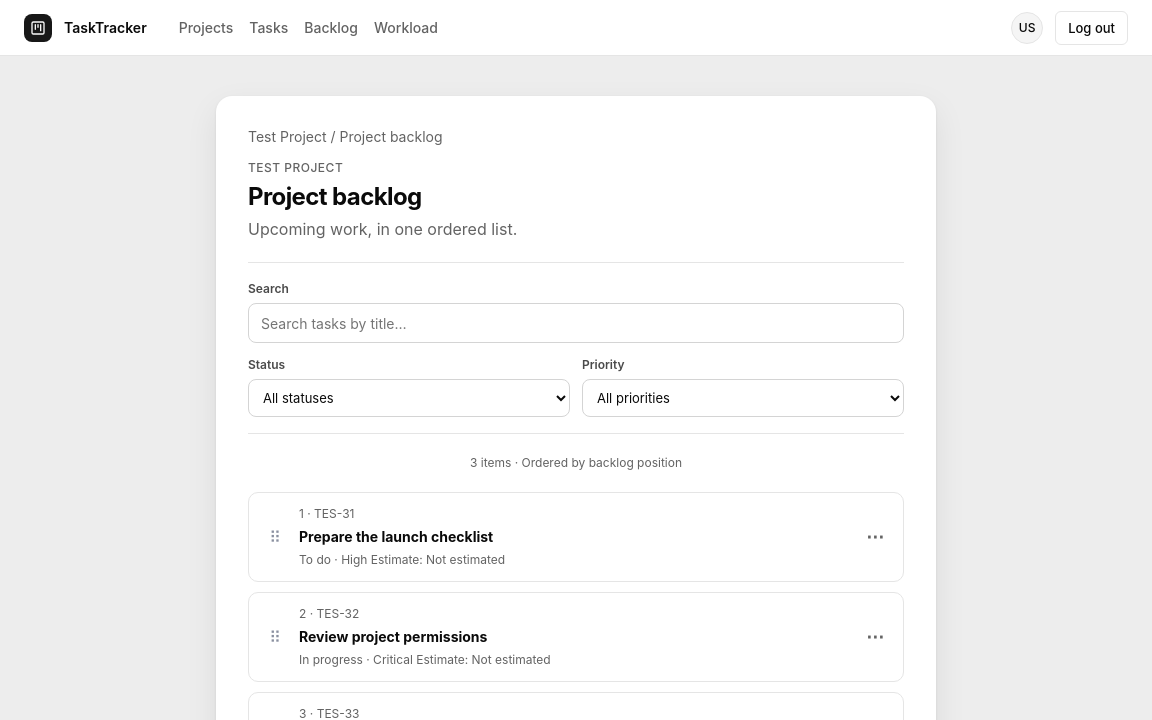
[US-24] Prioritize and Reorder Backlog Items (T1WOR-163) › opens accessible item actions modal and handles move down (State 02)
expect the heading "Project backlog" is shown: met, box [248, 181, 422, 213]
// Click item actions on task-1
Click the button with test id "backlog-item-actions-btn-task-1". click: (875, 537)
box: [861, 523, 889, 551]
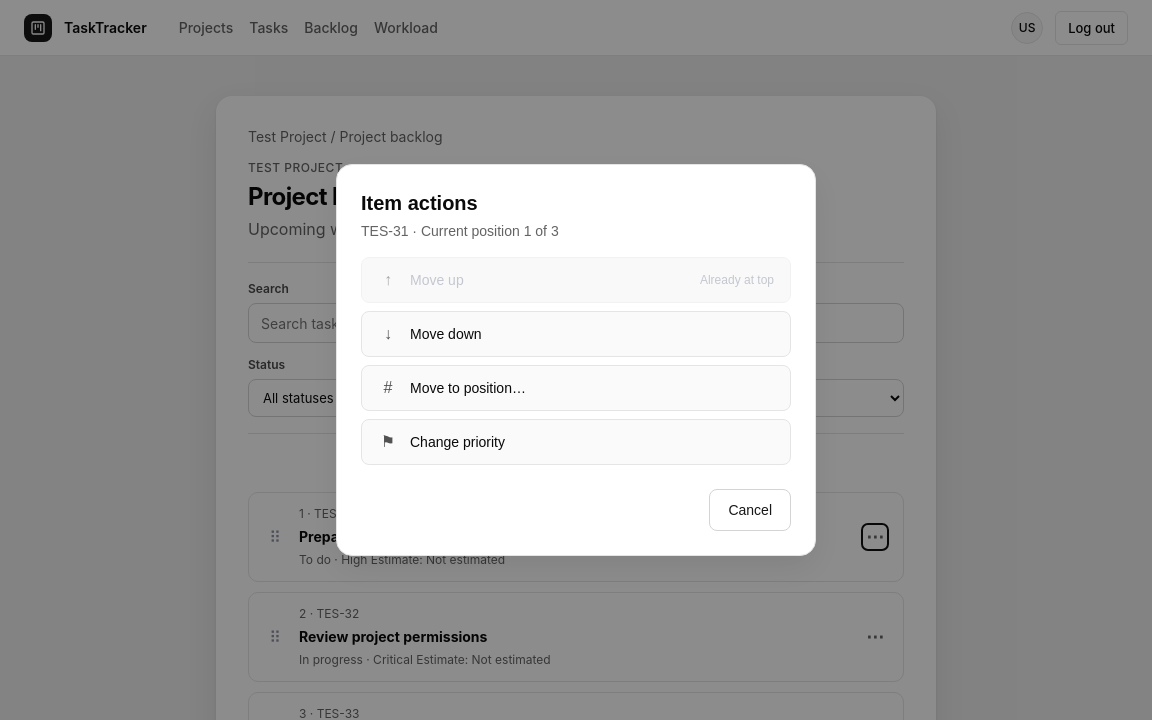
expect the element with test id "backlog-item-actions-modal" is shown: met
expect the heading "Item actions" is shown: met, box [361, 192, 478, 214]
expect the text "TES-31 · Current position 1 of 3" is shown: met, box [361, 223, 559, 239]
// Click Move down
Click the button with test id "backlog-action-move-down". click: (446, 334)
box: [361, 311, 791, 357]
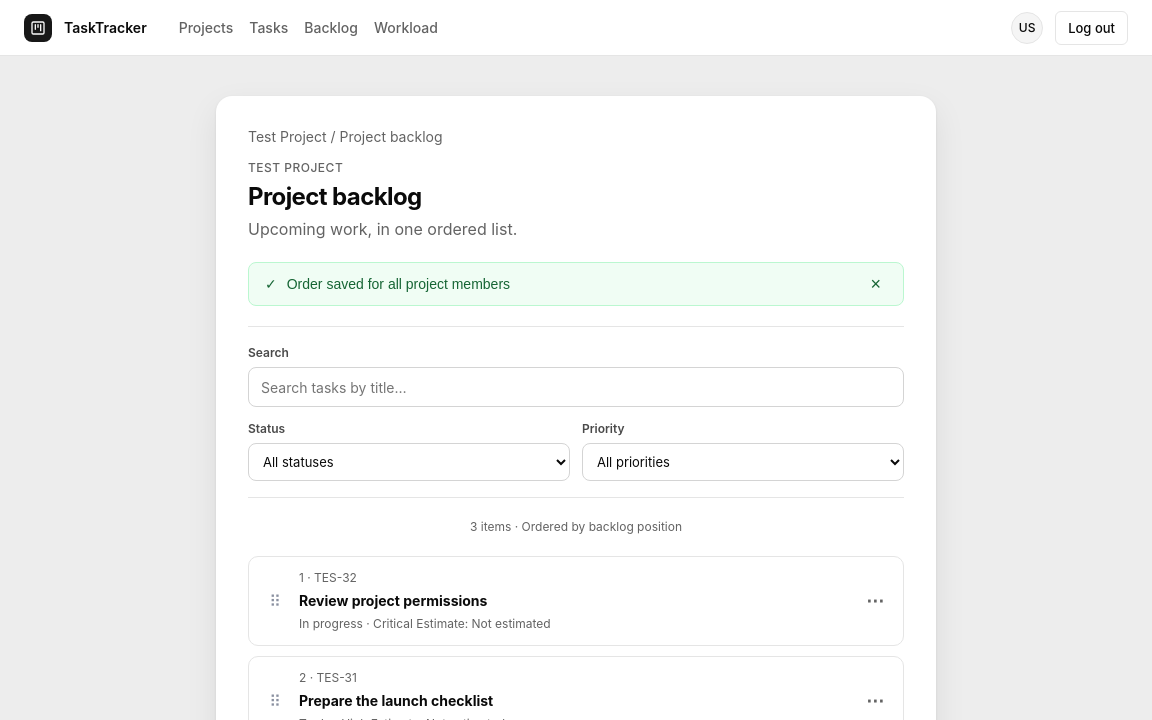
expect the message with test id "backlog-order-saved-banner" shows "Order saved for all project members": met, box [287, 276, 510, 292]
